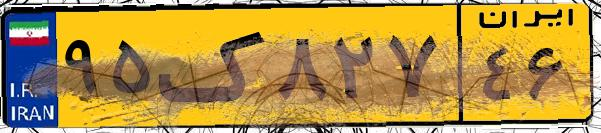2: (330, 28, 385, 110)
4: (475, 38, 525, 113)
5: (110, 28, 158, 98)
6: (525, 38, 570, 115)
7: (385, 28, 445, 110)
8: (270, 28, 330, 110)
9: (57, 26, 110, 100)
ک: (158, 12, 270, 120)
